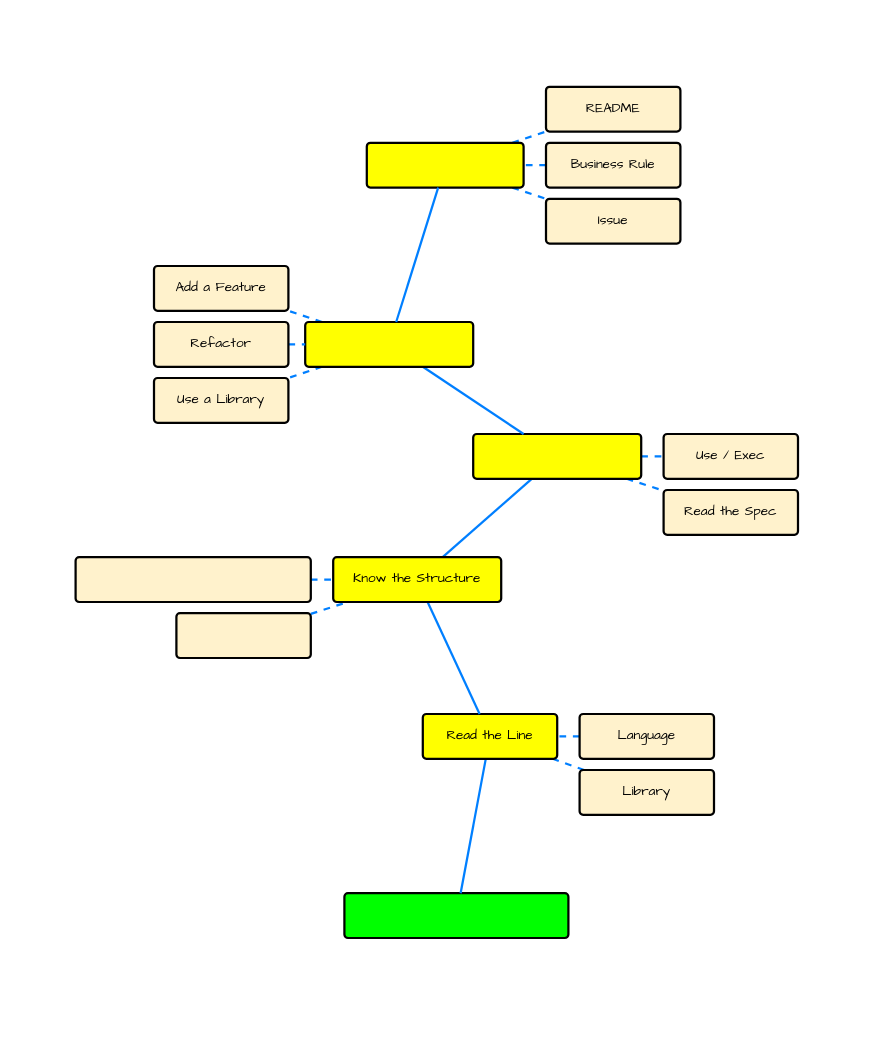
This 889x1046 diagram has some shape labels left out. Each missing label, with the box of its shape:
Code Document: (175, 612, 311, 659)
Design Pattern / Framework: (74, 556, 311, 603)
Experience the Behavior: (472, 432, 642, 479)
Have a purpuoe: (304, 320, 474, 367)
Know the Background: (365, 141, 524, 188)
Understand Code: (343, 892, 569, 939)
